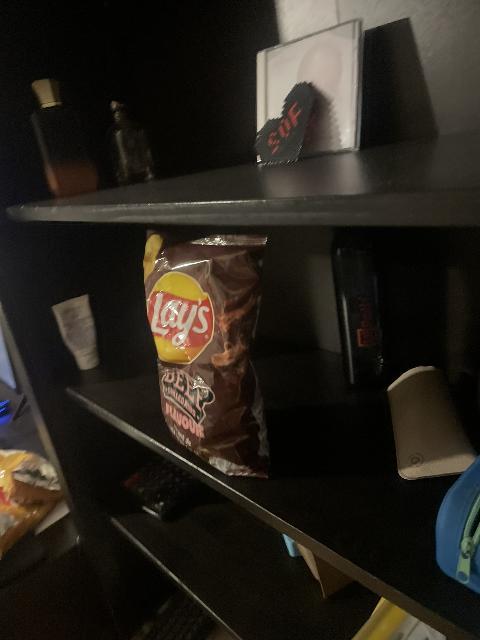Chio Cascaval 125g: (1, 493, 59, 562)
Chio Hula Hoops Cheese 70g: (2, 448, 62, 504)
Lays Beef Grilled Ribs 125g: (147, 233, 275, 475)
